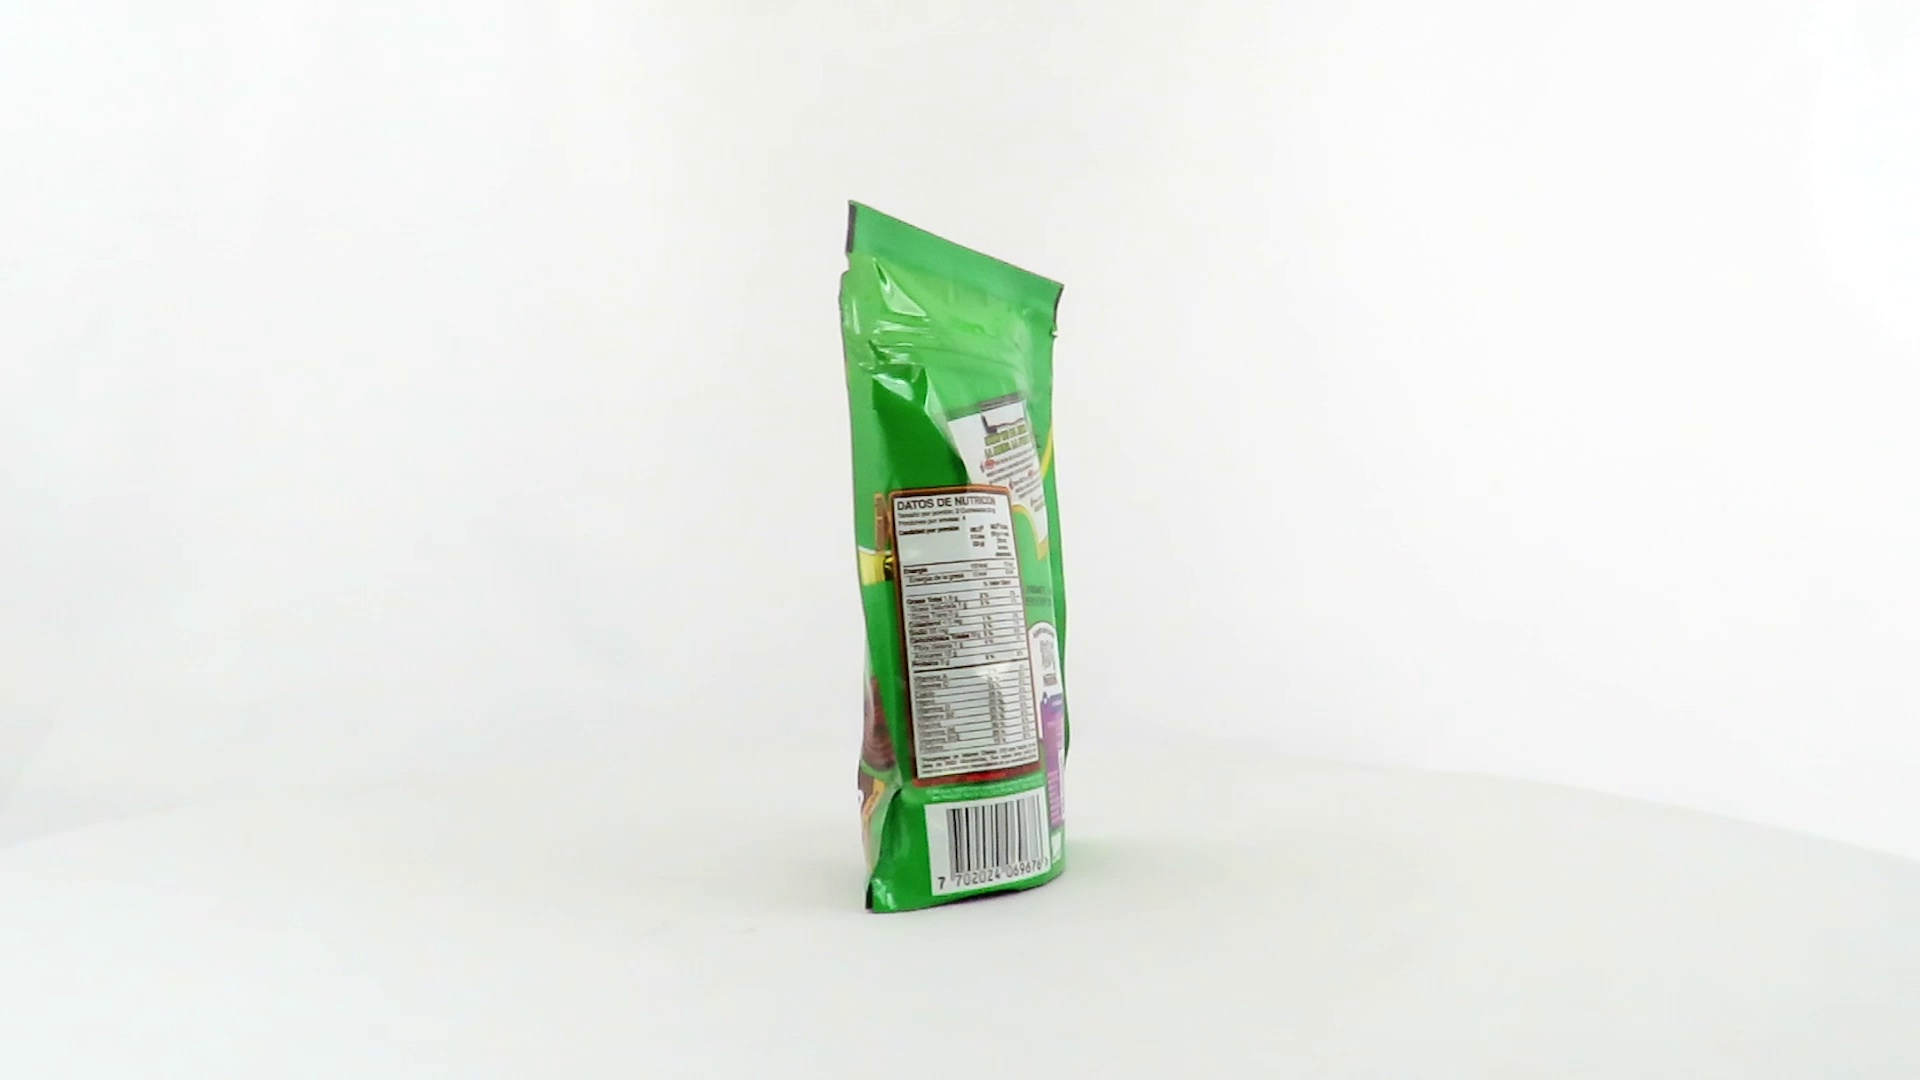COL0170203DYP10000: (833, 194, 1076, 920)
